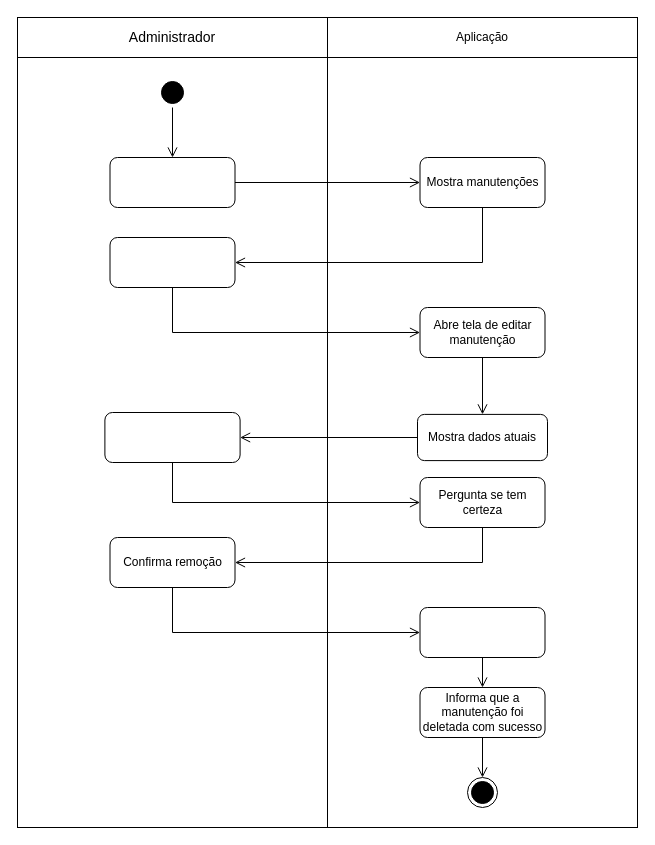
Some shapes in this 655 by 845 pixel diagram are drawn without their labels. The shapes that lost their labels are listed below. From the top down, each one's centre as x and y in pixels, then its label:
(172,182): Entra na tela de ver manutenções
(172,262): Seleciona editar manutenção
(172,437): Seleciona deletar manutenção
(482,632): Deleta manutenção
